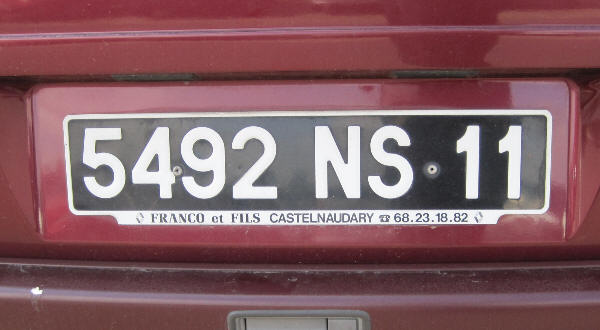license_plate: (64, 109, 552, 216)
